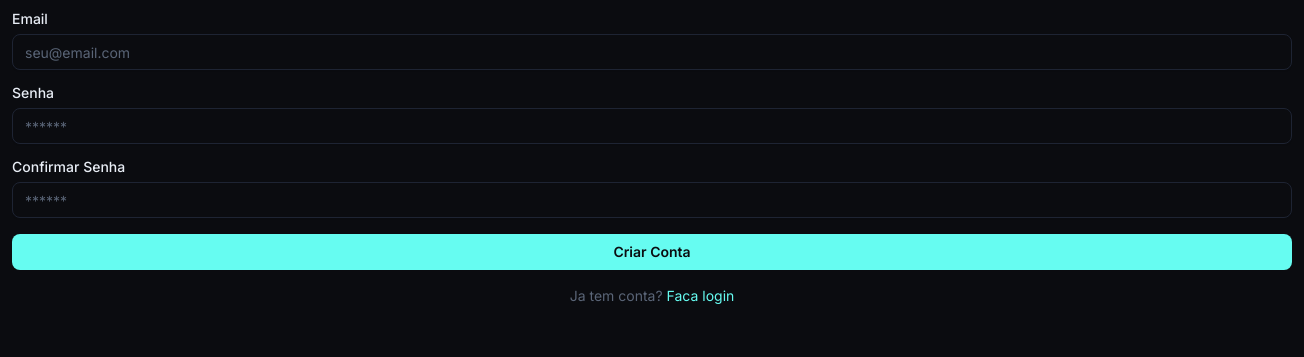
Test: RegisterForm › shows server error when registration fails with 422
Type "existing@team.com" into the field labelled "Email" at (652, 52), box 12,34 -> 1292,70
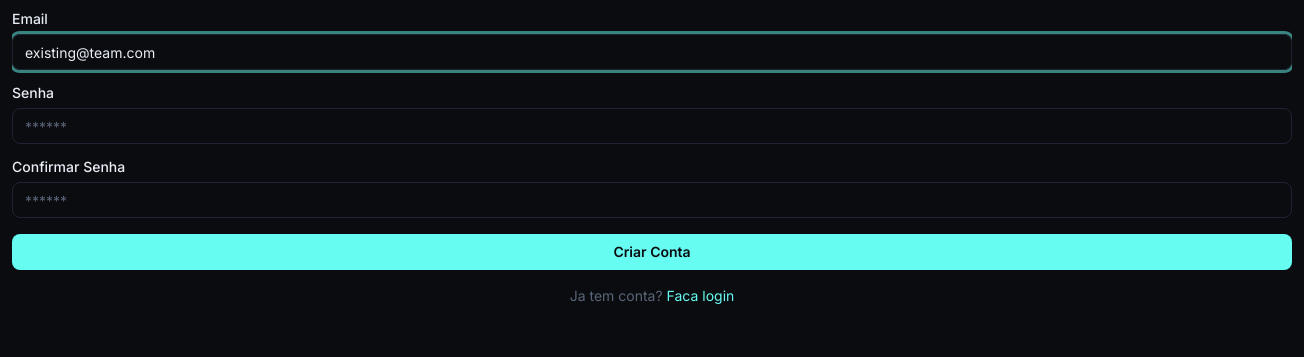
Type "password123" into the password field labelled "Senha" at (652, 126), box 12,108 -> 1292,144
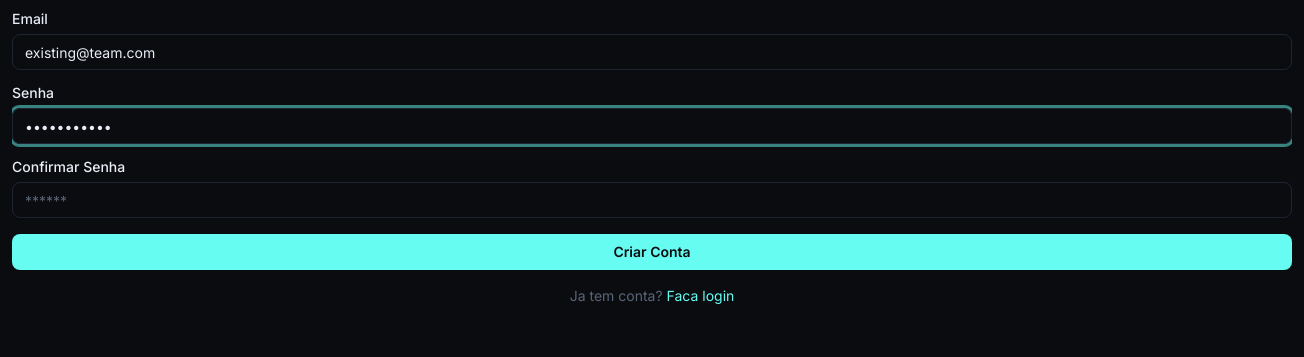
Type "password123" into the password field labelled "Confirmar Senha" at (652, 200), box 12,182 -> 1292,218
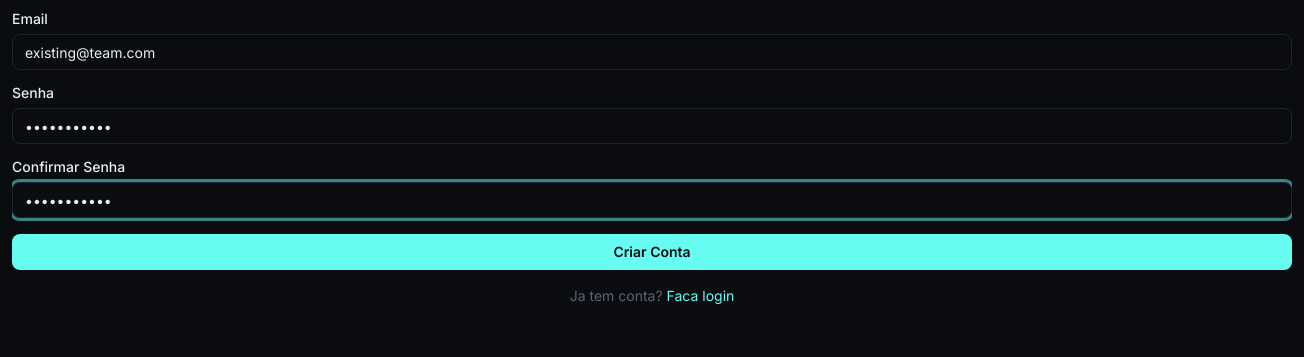
Click the button "Criar Conta" at (652, 252), box 12,234 -> 1292,270
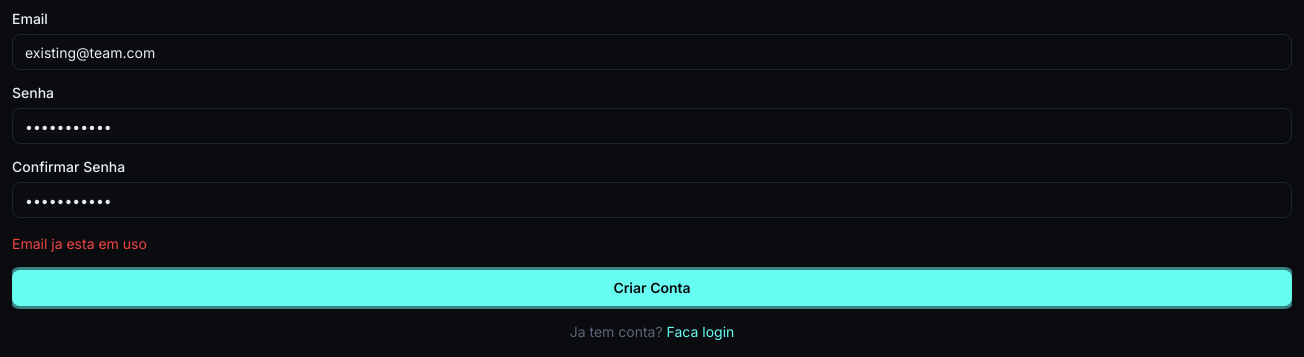
Now the text "Email ja esta em uso" is shown, box 12,235 -> 147,252
